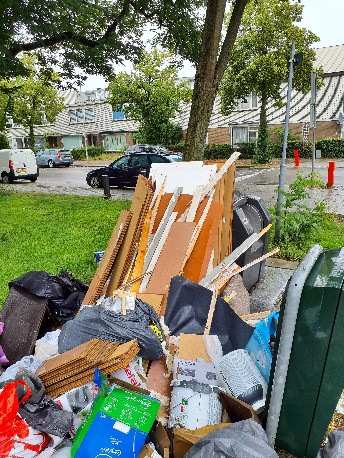Container: (234, 189, 279, 273)
Rest: (18, 360, 180, 458), (123, 148, 238, 273), (161, 279, 273, 367), (57, 250, 155, 335), (0, 256, 75, 352), (147, 405, 287, 455), (201, 346, 272, 399)
